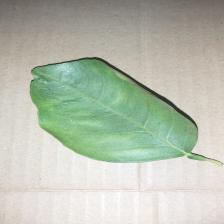greening: (28, 54, 224, 168)
